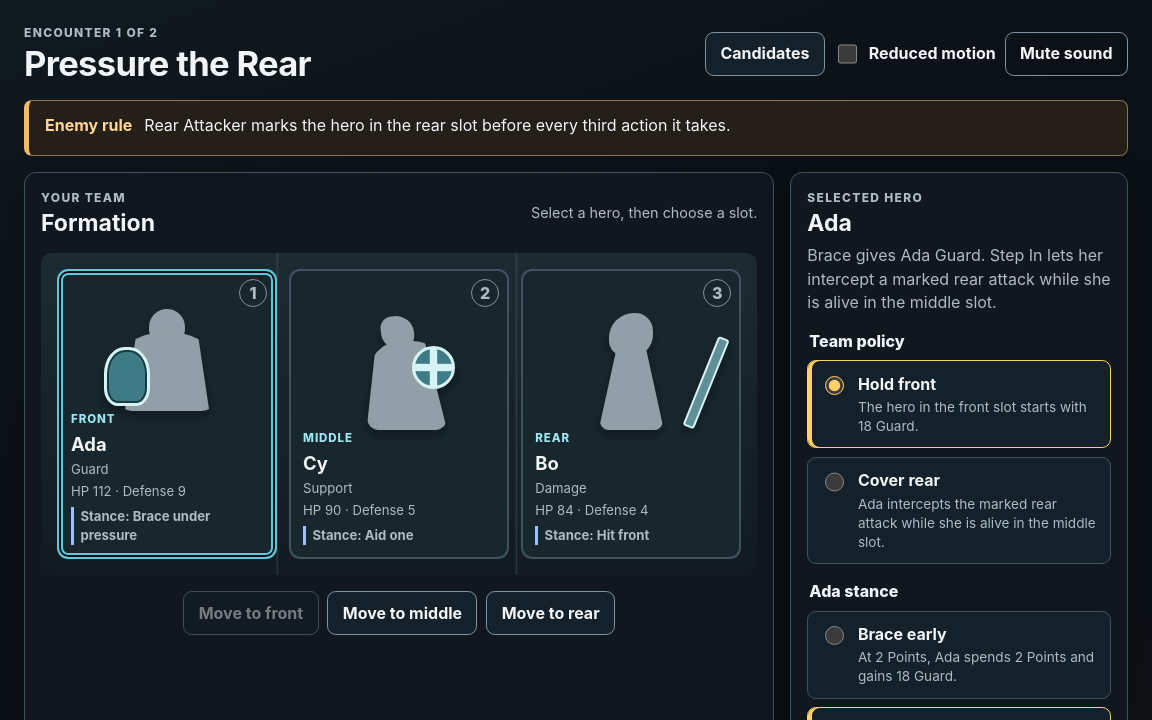
it: candidate battle trial journey › starts the selected deterministic candidate in a battlefield-first trial
The width and height of the screenshot is (1152, 720).
Click the button "Candidates": (765, 54) left=705, top=32, right=825, bottom=76
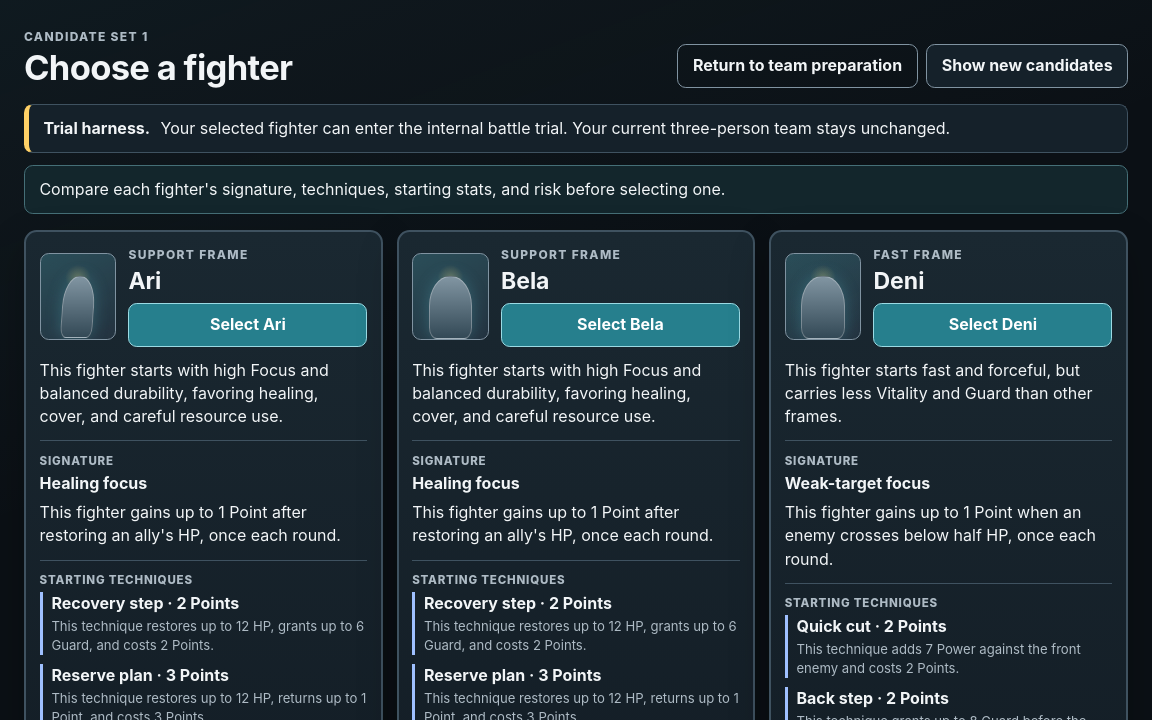
Click the button "Select Ari": (248, 325) left=128, top=303, right=367, bottom=347
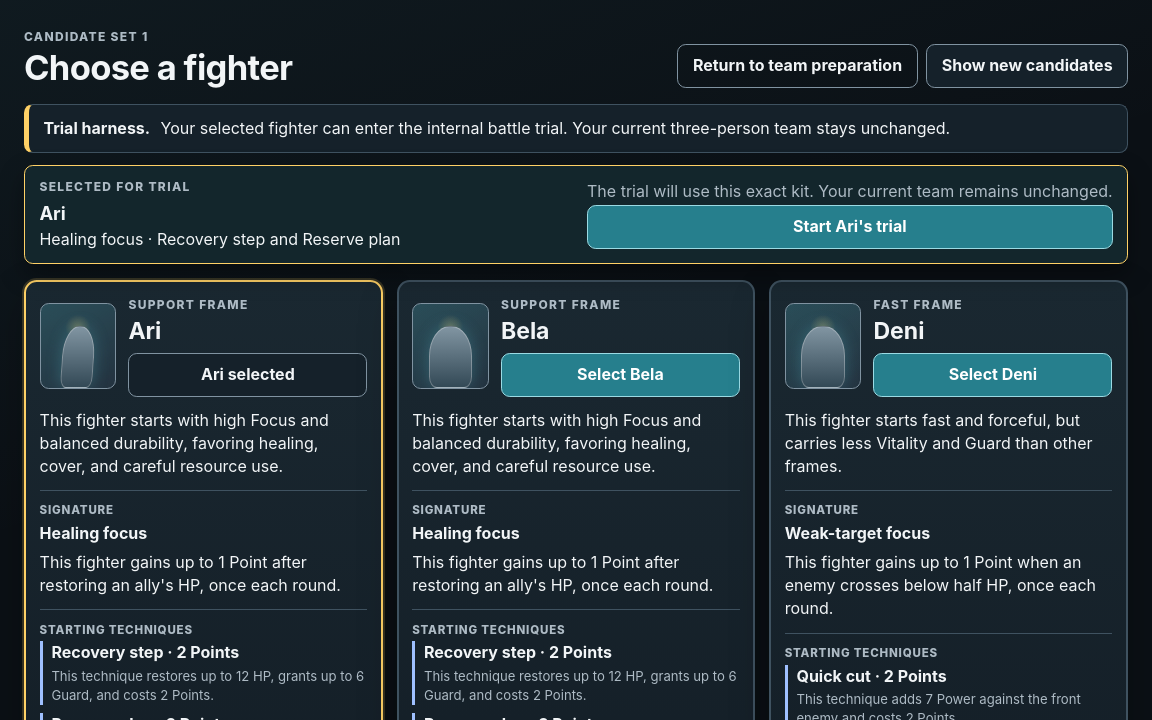
Click the button "Start Ari's trial": (850, 227) left=587, top=205, right=1113, bottom=249
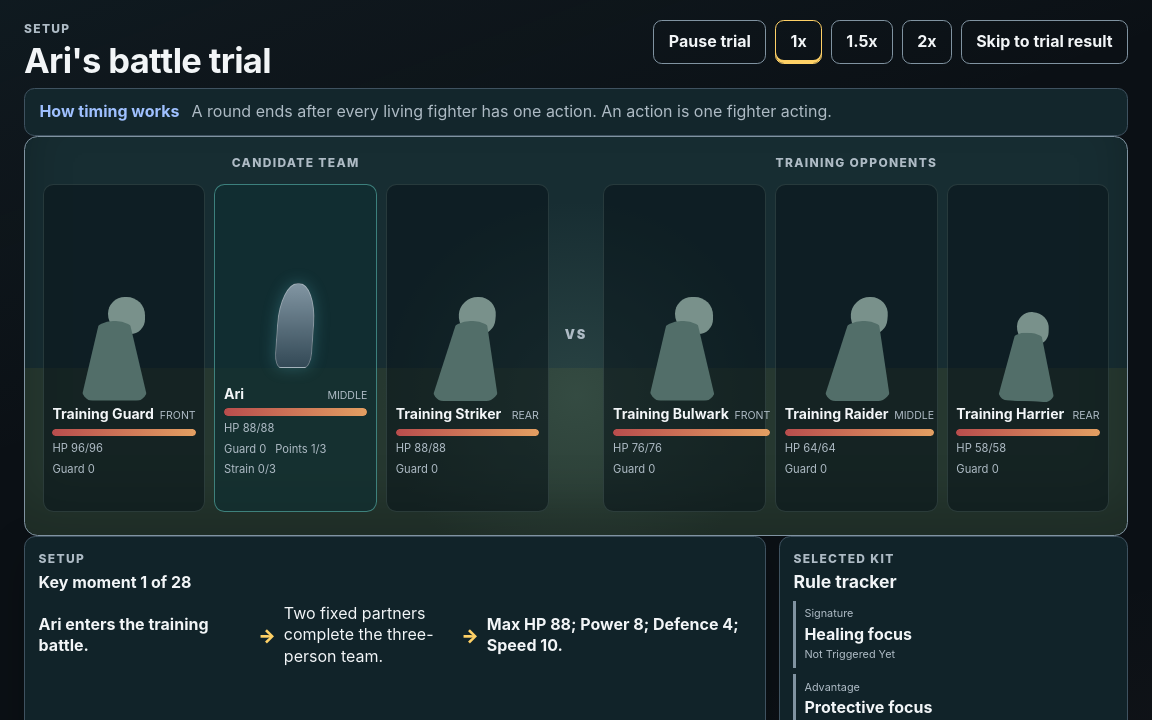
Result: the text "Ari" is shown at left=224, top=384, right=244, bottom=404
Result: the element named "Candidate trial battlefield" is shown at left=24, top=136, right=1128, bottom=536
Result: the element named "Trial playback controls" is shown at left=653, top=20, right=1128, bottom=64
